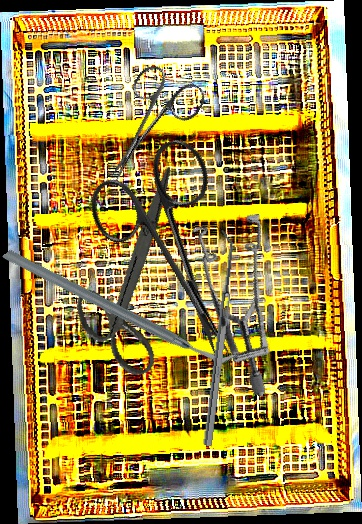Chopper: (1, 180, 240, 433)
Iris Scissors: (77, 132, 282, 382), (46, 166, 223, 388), (84, 56, 210, 200)
Spatula Surgical: (194, 228, 239, 447)
Speculum: (144, 193, 326, 398)
